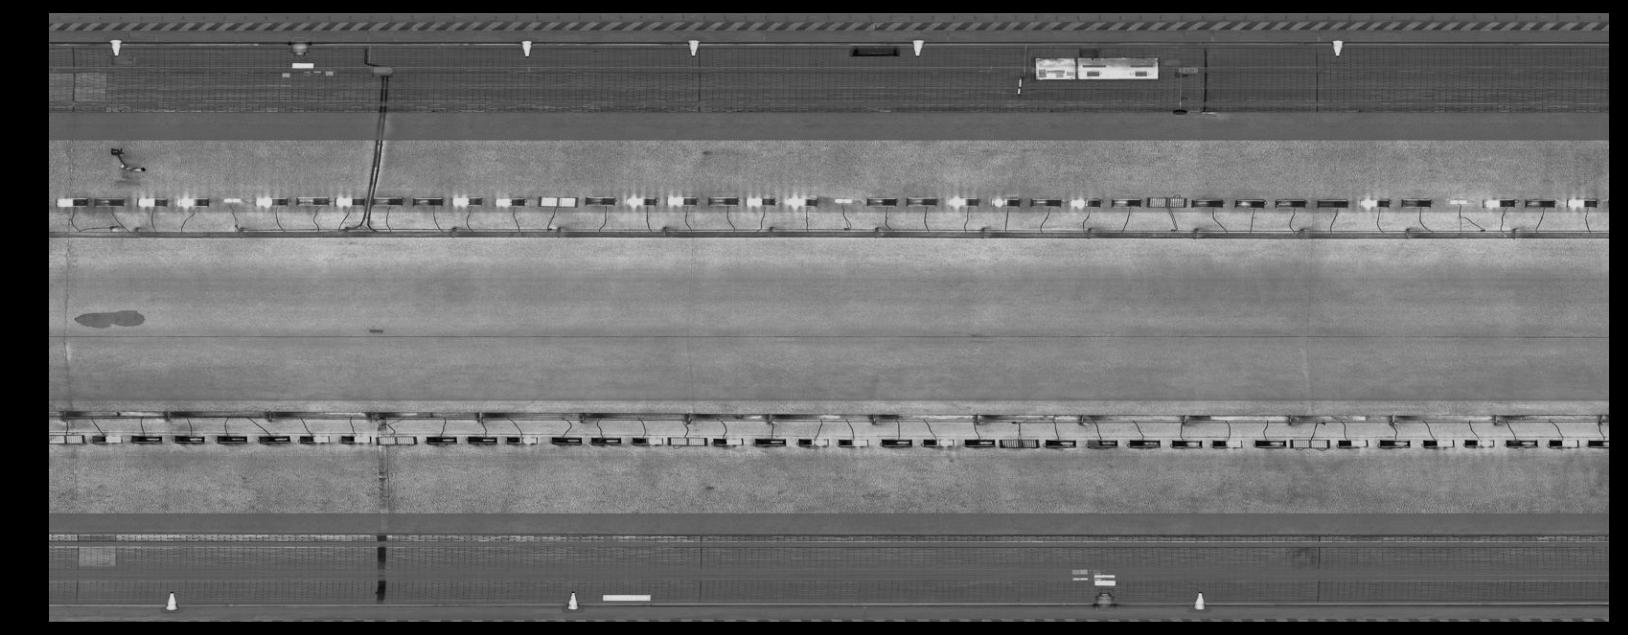light: (372, 431, 420, 448), (535, 192, 581, 210), (994, 434, 1042, 450), (1287, 434, 1332, 451), (664, 433, 710, 449), (49, 430, 88, 448), (1145, 193, 1189, 210), (783, 191, 821, 210), (488, 192, 527, 210), (1333, 434, 1373, 451), (623, 191, 661, 209), (1083, 435, 1121, 452), (1545, 435, 1585, 451), (447, 192, 485, 210), (1127, 434, 1163, 451), (1208, 434, 1244, 451), (751, 433, 789, 449), (1502, 435, 1541, 451), (918, 434, 958, 449), (331, 191, 369, 208), (710, 432, 748, 448), (794, 433, 832, 449), (1251, 435, 1288, 451), (1419, 434, 1457, 450), (422, 432, 461, 447), (462, 432, 501, 447), (503, 432, 542, 447), (548, 432, 587, 447), (1187, 195, 1227, 210), (1478, 194, 1519, 209), (1564, 194, 1599, 211), (1377, 435, 1412, 451), (173, 194, 211, 210), (704, 192, 741, 208), (741, 193, 779, 209), (1460, 435, 1497, 450), (292, 192, 331, 206), (1229, 195, 1269, 210), (1272, 195, 1311, 210), (86, 431, 126, 445), (833, 435, 872, 449), (1169, 435, 1203, 451), (582, 192, 619, 208), (211, 432, 252, 445), (253, 193, 292, 208), (1313, 195, 1352, 210), (1355, 195, 1393, 210), (877, 435, 916, 449), (945, 194, 982, 209), (1107, 194, 1144, 209), (1396, 195, 1434, 210), (255, 432, 293, 446), (126, 432, 165, 445), (1041, 436, 1081, 449), (1067, 195, 1104, 210), (297, 432, 333, 446), (588, 433, 624, 447), (629, 433, 666, 447), (961, 435, 998, 449), (409, 194, 446, 208), (1522, 196, 1559, 210), (664, 193, 699, 208), (52, 195, 91, 208), (369, 195, 408, 208), (863, 194, 899, 208), (903, 194, 940, 208), (171, 432, 208, 445), (133, 195, 171, 208), (337, 432, 373, 445), (89, 195, 127, 208), (1028, 195, 1064, 208), (988, 194, 1022, 208), (1586, 434, 1609, 448), (1446, 196, 1472, 206), (218, 194, 244, 202), (831, 196, 854, 204)
